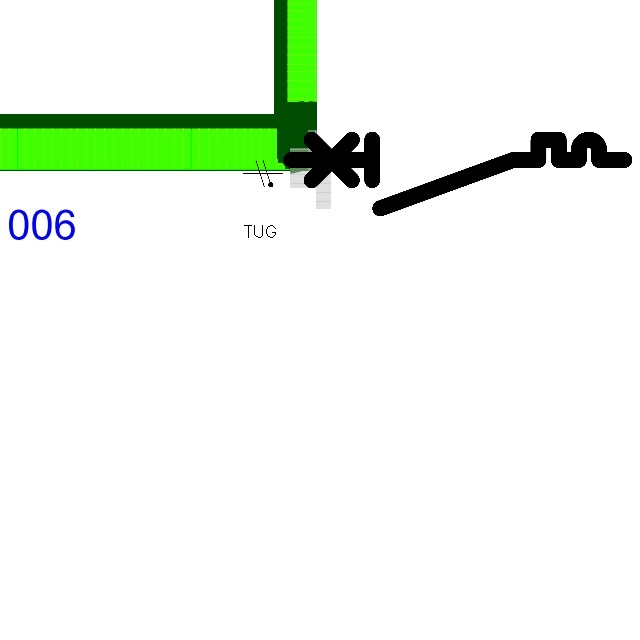interruptor_termomagnetico: (282, 131, 632, 216)
